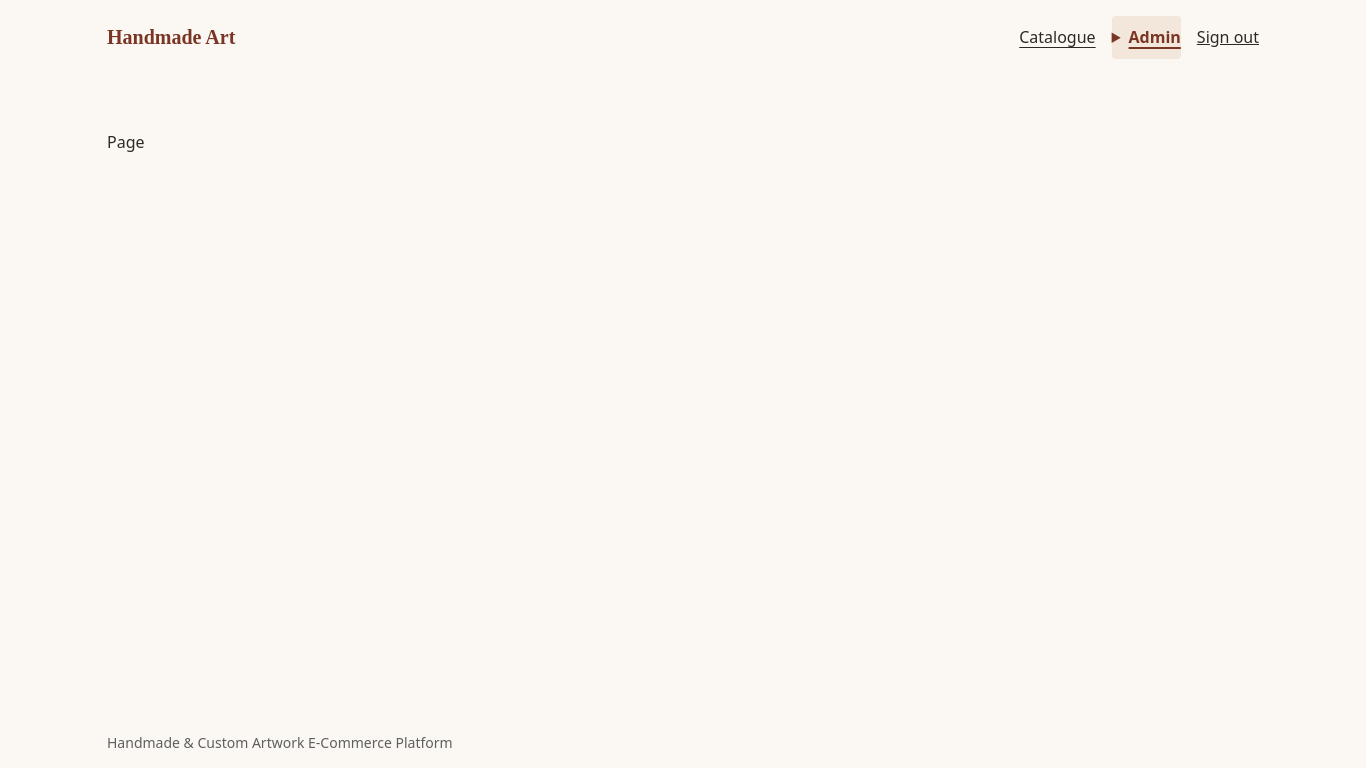
menu dismissal and active destinations › closes a dropdown after navigating even to the current destination
Click the heading "Admin" at {"x": 1146, "y": 37}, box [1112, 16, 1181, 59]
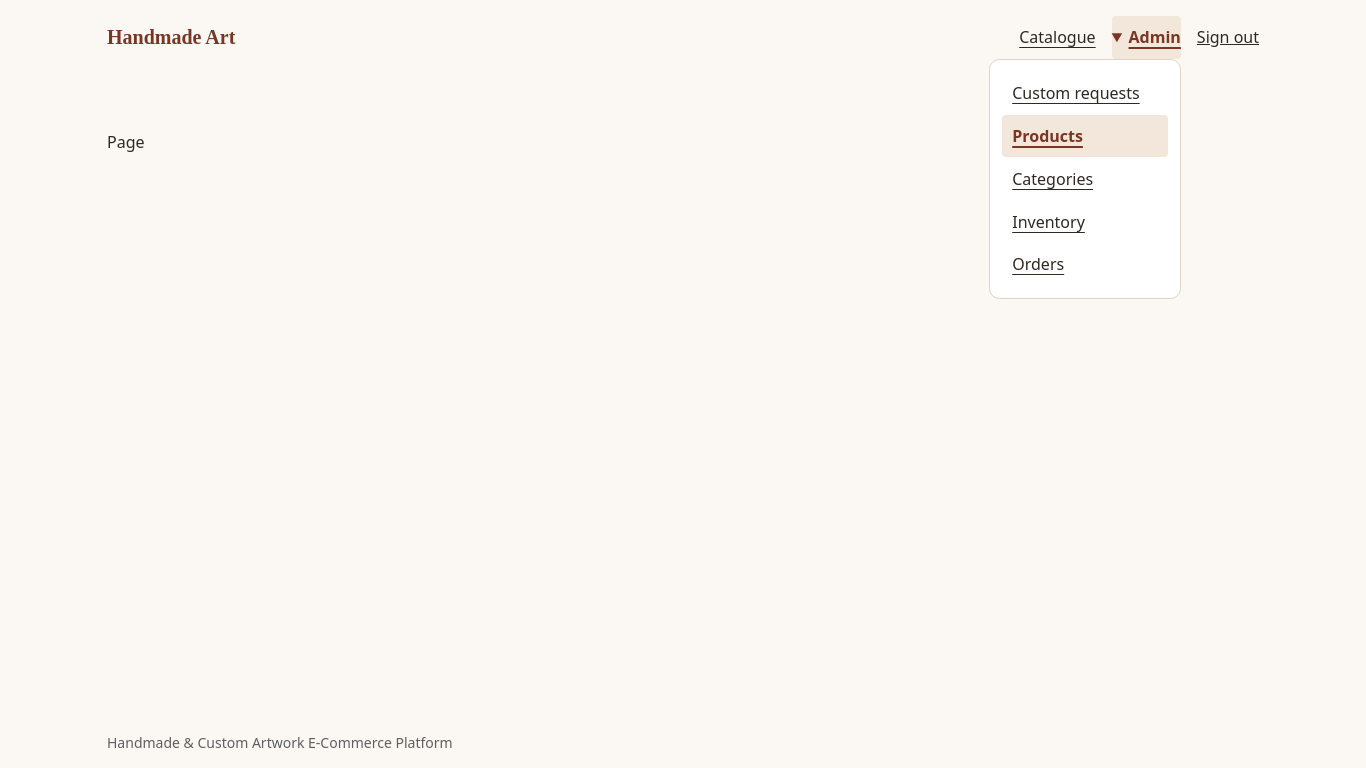
Click the link "Products" at {"x": 1085, "y": 136}, box [1002, 115, 1168, 157]
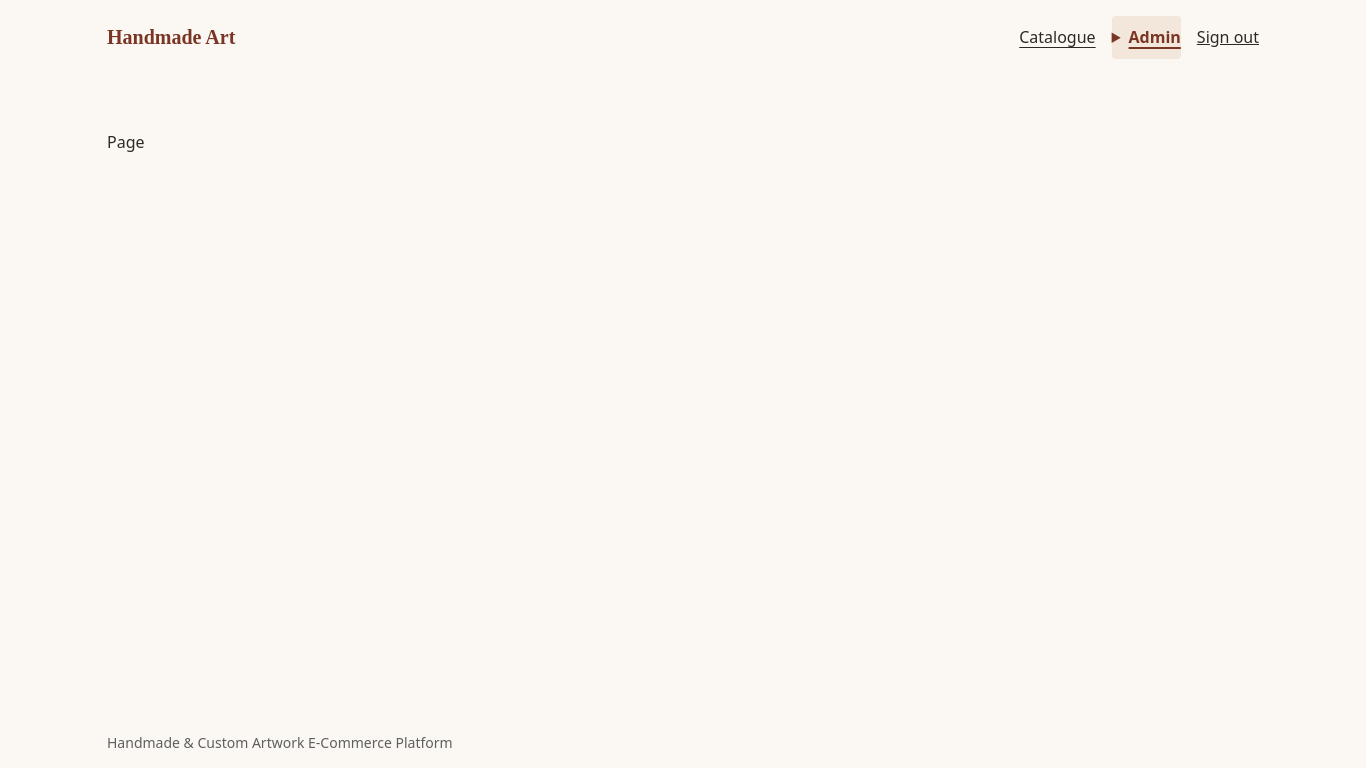
Check: the link "Products" is gone
